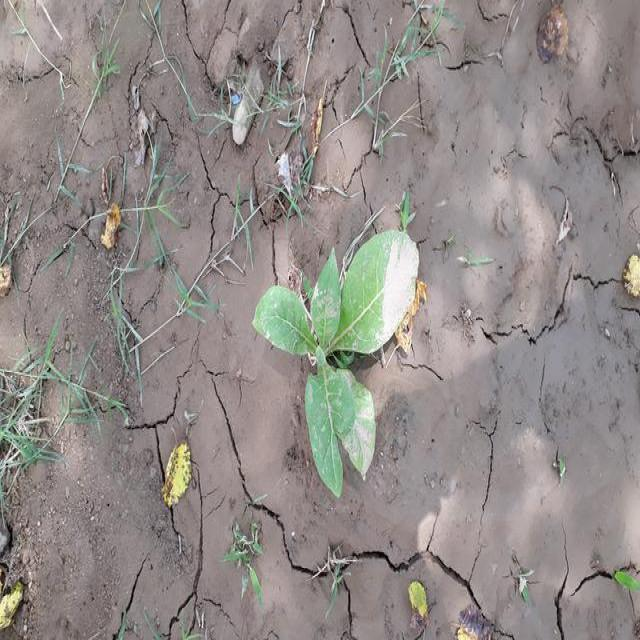crop: (254, 231, 416, 493)
